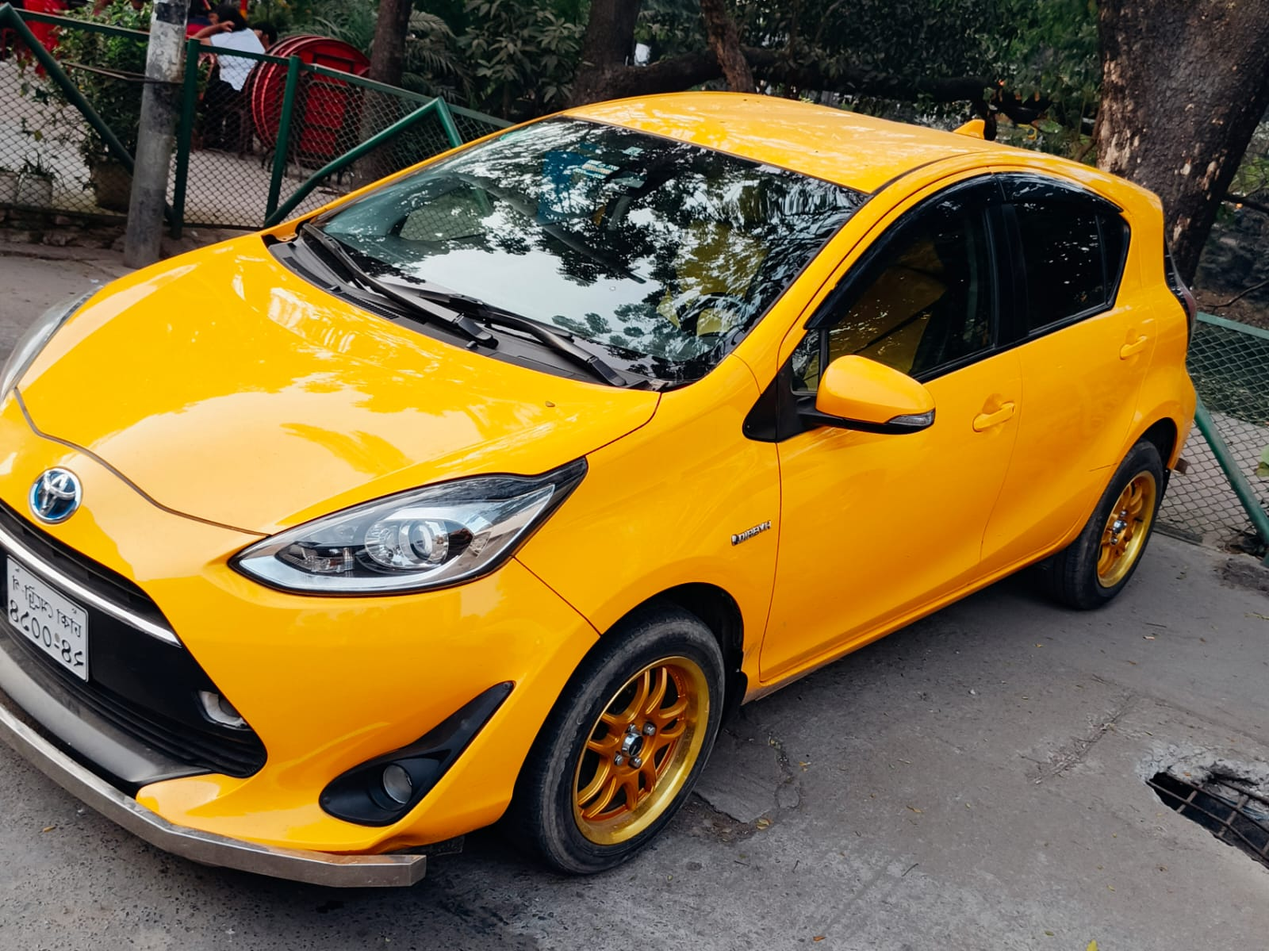private car: (0, 75, 1204, 925)
